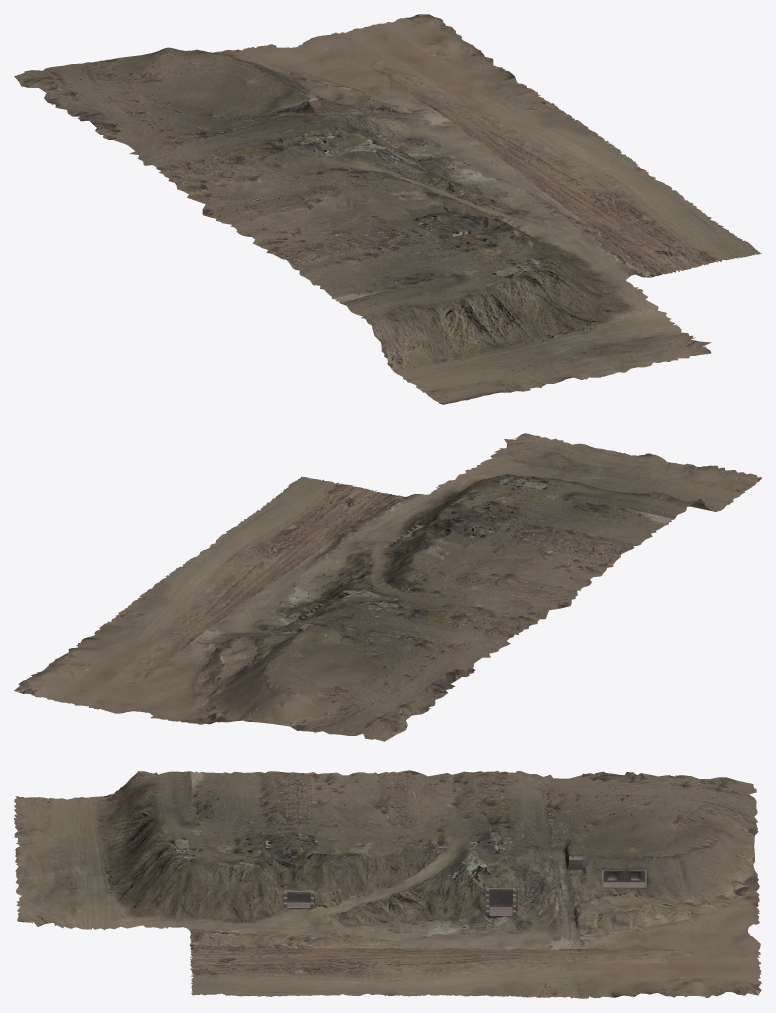
The model's file is MOD_domainSurroundings_ridge.fbx.
3 views of the same model, one above another, from view 1: azimuth 30°, elevation 25°; view 2: azimuth 150°, elevation 25°; view 3: azimuth 270°, elevation 25° (orthographic). The views are drawn at different scales.
Visible parts, largest first — view 1: MOD_domainSurroundings_ridge; view 2: MOD_domainSurroundings_ridge; view 3: MOD_domainSurroundings_ridge.
Boxes of the visible parts, x1,y1,x2,y2 form: MOD_domainSurroundings_ridge: (14,14,761,404); MOD_domainSurroundings_ridge: (14,433,761,741); MOD_domainSurroundings_ridge: (14,770,761,998).
Bounding box in the file's own units: 12617 × 1679 × 22002.
2 materials, 2 textured.
